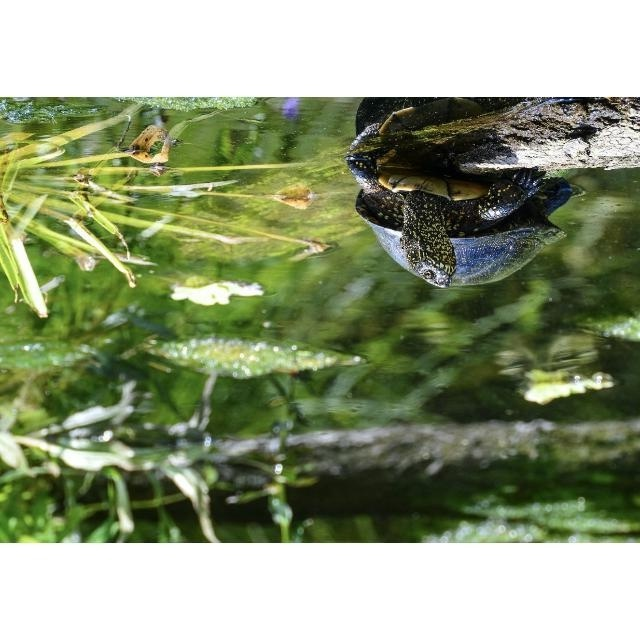turtle: (346, 158, 568, 286)
